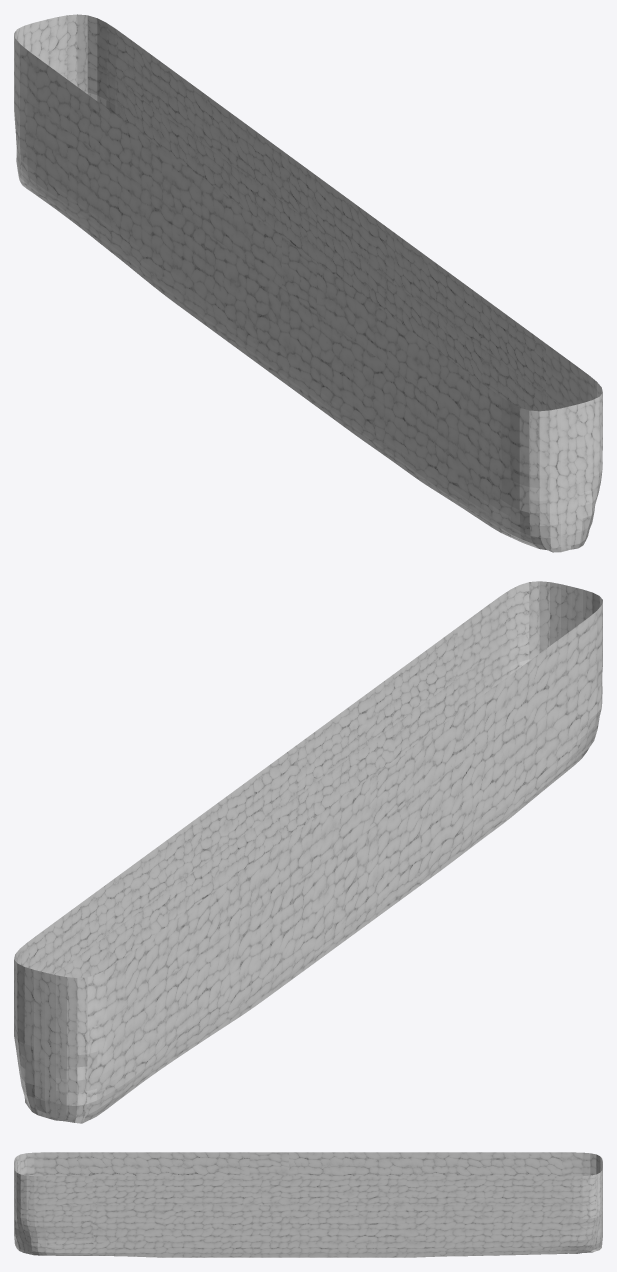
The model's file is clothes-sweater.glb.
The picture shows the model from 3 angles, top to bottom: view 1: azimuth 30°, elevation 25°; view 2: azimuth 150°, elevation 25°; view 3: azimuth 270°, elevation 25°; orthographic projection. The views are drawn at different scales.
Visible parts, largest first — view 1: Cube.004; view 2: Cube.004; view 3: Cube.004.
Boxes of the visible parts, x1=… form: Cube.004: x1=14, y1=14, x2=602, y2=552; Cube.004: x1=14, y1=581, x2=602, y2=1123; Cube.004: x1=14, y1=1152, x2=602, y2=1257.
Size of the model in its own units: 0.15 by 0.2396 by 1.55.
1 material, 1 textured.
